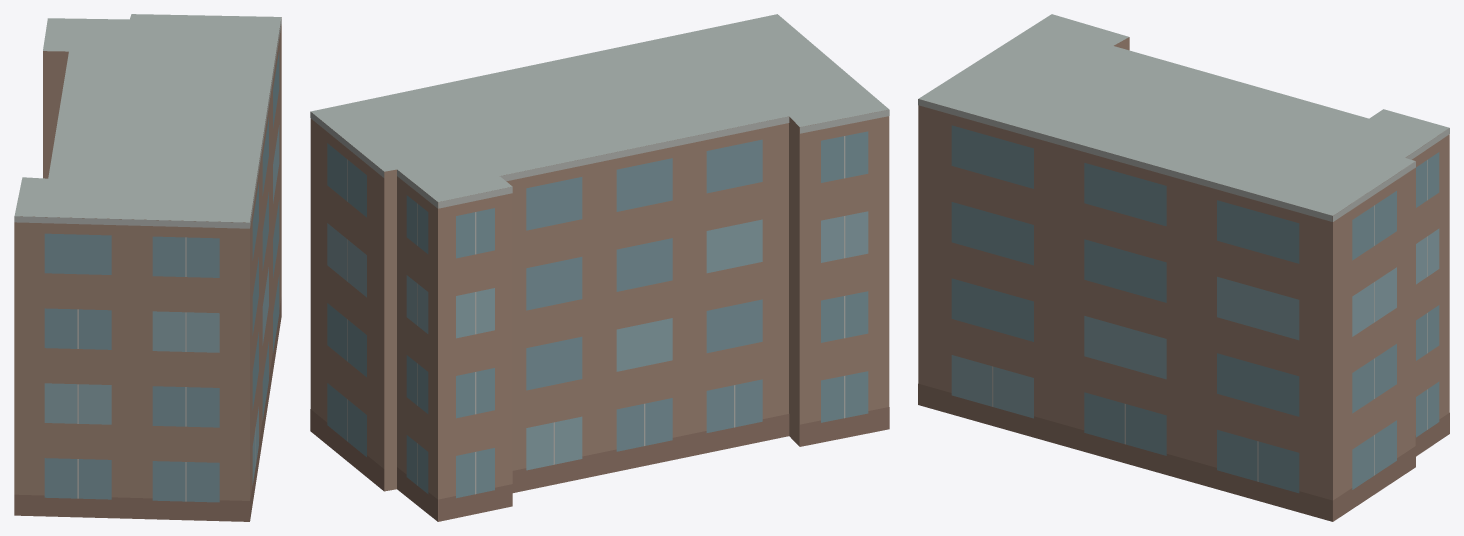
File: survey-upis-32970531.glb
3 views of the same model, side by side, from view 1: azimuth 30°, elevation 25°; view 2: azimuth 150°, elevation 25°; view 3: azimuth 270°, elevation 25° (orthographic). The views are drawn at different scales.
Visible parts, largest first — view 1: survey-upis-32970531.tmp; view 2: survey-upis-32970531.tmp; view 3: survey-upis-32970531.tmp.
Part boxes in pixels (x1=…): survey-upis-32970531.tmp: x1=14, y1=14, x2=281, y2=521; survey-upis-32970531.tmp: x1=310, y1=14, x2=889, y2=521; survey-upis-32970531.tmp: x1=918, y1=14, x2=1449, y2=521.
Bounding box in the file's own units: 16.7 × 11.8 × 18.58.
